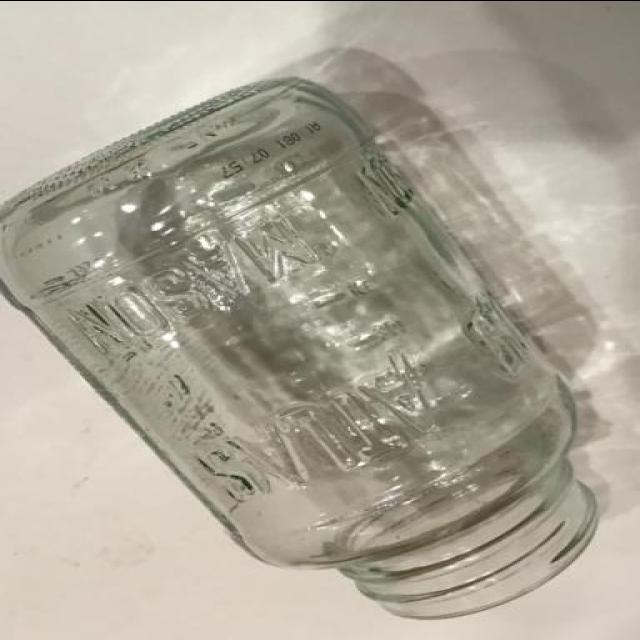litter: (0, 69, 603, 620)
